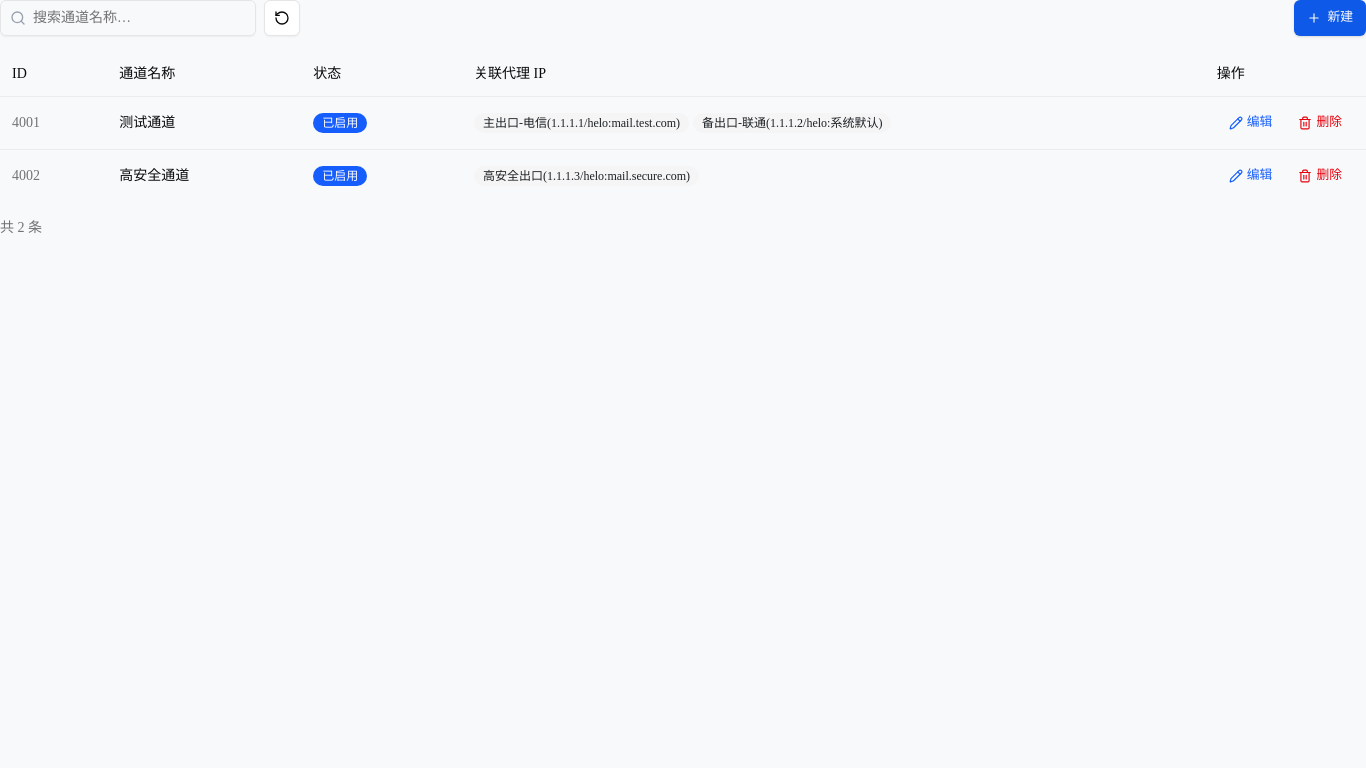
it: ChannelStep › shows the verbatim HELO inconsistency warning when selected proxies declare >1 distinct HELO, and it disappears once removed
Click the button with test id "mr-ob-channel-edit-4001": [1251, 122] box [1217,108,1284,136]
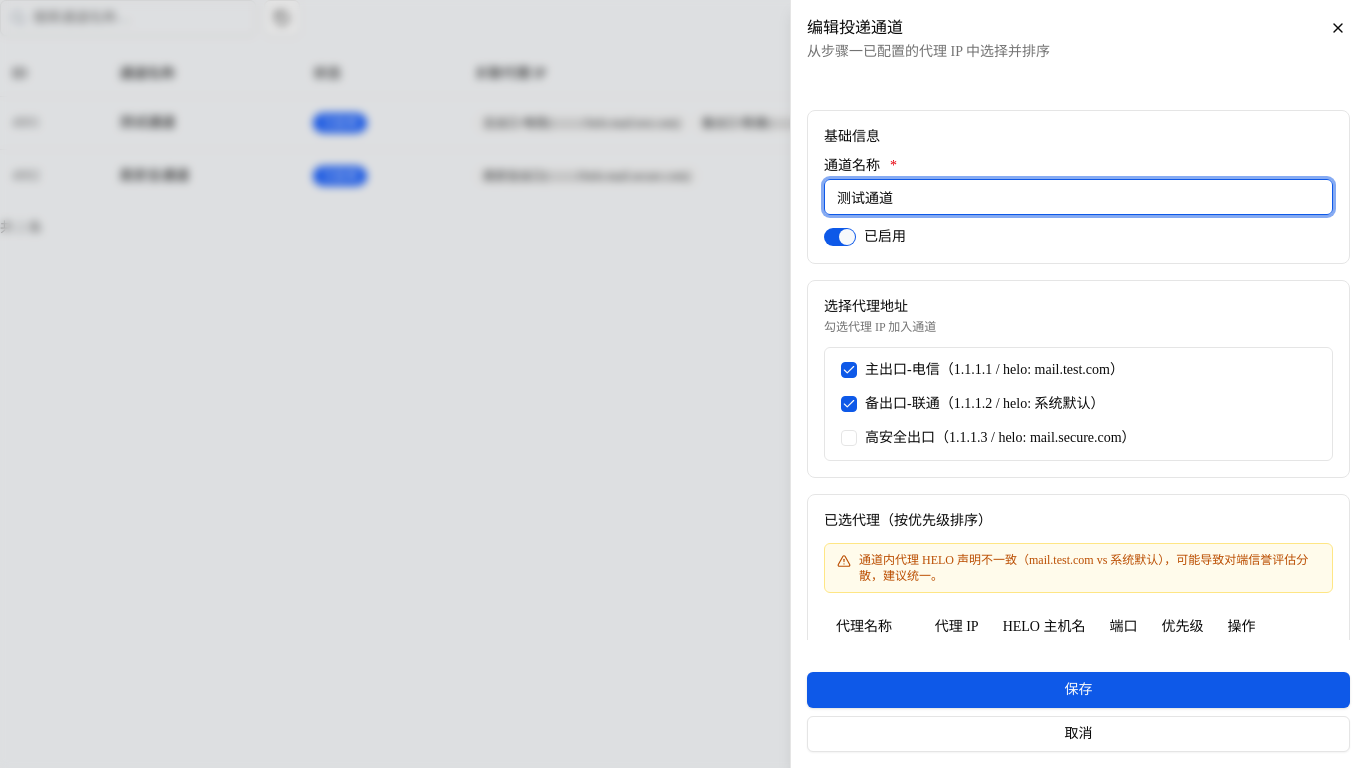
Result: the dialog with test id "mr-ob-channel-drawer" is shown at [790,0,1365,767]
Result: the element with test id "mr-ob-channel-helo-warning" reads "通道内代理 HELO 声明不一致（mail.test.com vs 系统默认），可能导致对端信誉评估分散，建议统一。" at [859,553,1308,583]
Click the checkbox with test id "mr-ob-channel-proxy-check-3002": [849, 404] box [841,396,857,412]
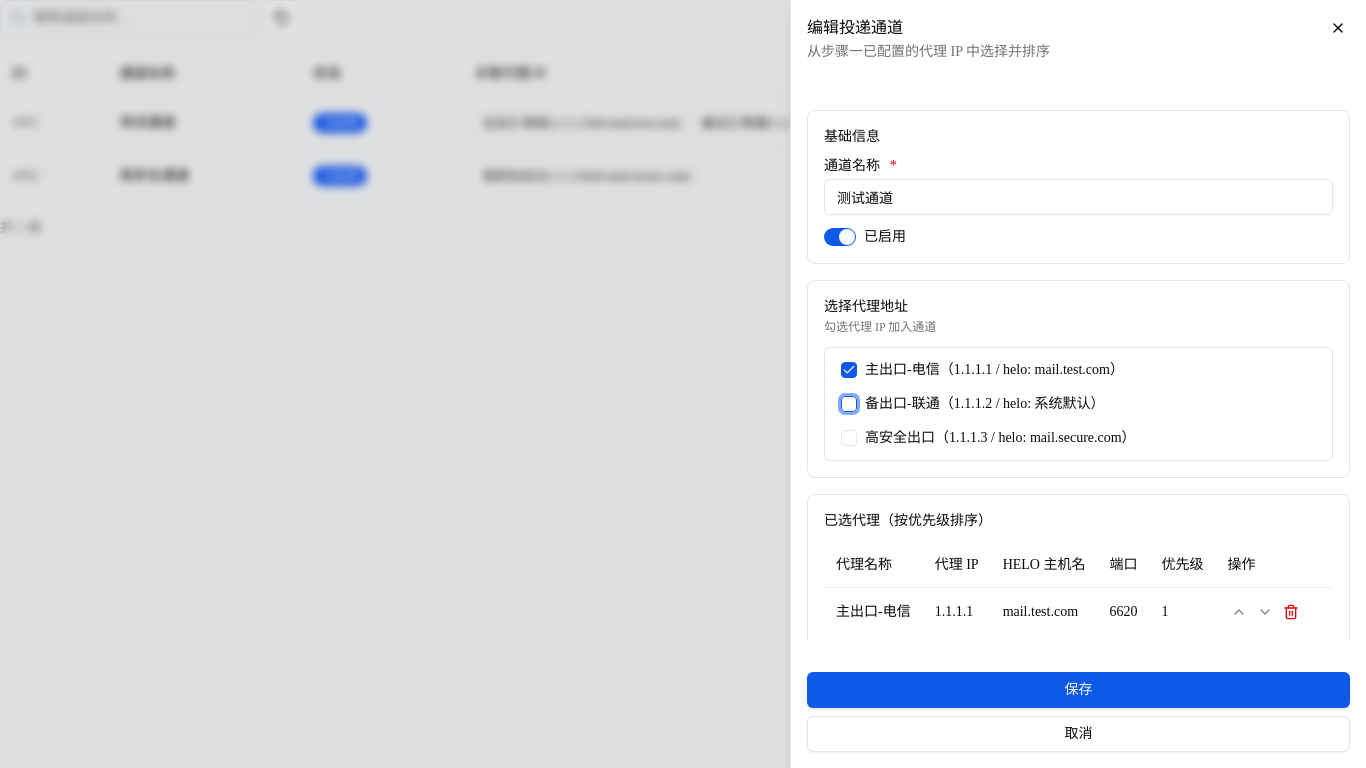
Result: the element with test id "mr-ob-channel-helo-warning" is gone
